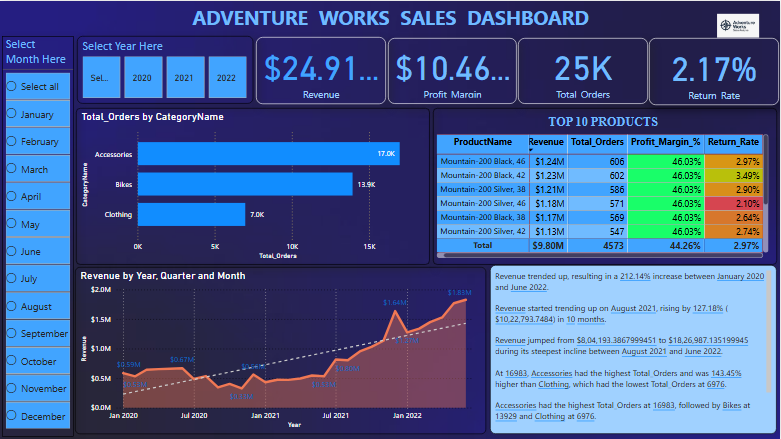

What the dashboard file says about the page in this screenshot:
{"tool":"powerbi","page":{"name":"Dashboard","canvas":[1280,720],"ordinal":5},"visuals":[{"type":"textbox","box":[0,0,1280,55.7],"z":0},{"type":"listSlicer","title":"Select Month Here","fields":{"Values":["Calendar Lookup.Date.Variation.Date Hierarchy.Month"]},"box":[3.3,57.4,118,657.4],"z":1000},{"type":"advancedSlicerVisual","title":"Select Year Here","fields":{"Values":["Calendar Lookup.Date.Variation.Date Hierarchy.Year"]},"box":[126.2,57.4,288.5,111.5],"z":2000},{"type":"card","fields":{"Values":["Measure Table.Revenue"]},"box":[419.7,59,213.1,109.8],"z":3000},{"type":"card","fields":{"Values":["Measure Table.Profit_Margin"]},"box":[636.1,60.7,211.5,108.2],"z":4000},{"type":"card","fields":{"Values":["Measure Table.Total_Orders"]},"box":[849.2,60.7,213.1,108.2],"z":5000},{"type":"card","fields":{"Values":["Measure Table.Return_Rate"]},"box":[1063.9,60.7,213.1,109.8],"z":6000},{"type":"clusteredBarChart","fields":{"Category":["Product Categories Lookup.CategoryName"],"Y":["Measure Table.Total_Orders"]},"box":[124.6,175.4,580.3,257.4],"z":7000},{"type":"lineChart","fields":{"Category":["Calendar Lookup.Date.Variation.Date Hierarchy.Year","Calendar Lookup.Date.Variation.Date Hierarchy.Quarter","Calendar Lookup.Date.Variation.Date Hierarchy.Month","Calendar Lookup.Date.Variation.Date Hierarchy.Day"],"Y":["Measure Table.Revenue"]},"box":[123,436.1,673.8,273.8],"z":8000},{"type":"pivotTable","title":"TOP 10 PRODUCTS","fields":{"Rows":["Product Lookup.ProductName"],"Values":["Measure Table.Revenue","Measure Table.Total_Orders","Measure Table.Profit_Margin_%","Measure Table.Return_Rate"]},"box":[709.8,175.4,563.9,257.4],"z":9000},{"type":"textbox","box":[803.3,432.8,470.5,277],"z":10000}]}

Visuals, with their boxes in screenshot pixels (x1, y1, x2, y2), scaled from the page's 1280x720 canvas onto the 781x439 screenshot:
textbox: detection(0, 0, 780, 34)
"Select Month Here" listSlicer: detection(2, 35, 74, 436)
"Select Year Here" advancedSlicerVisual: detection(77, 35, 253, 103)
card - Measure Table.Revenue: detection(256, 36, 386, 103)
card - Measure Table.Profit_Margin: detection(388, 37, 517, 103)
card - Measure Table.Total_Orders: detection(518, 37, 648, 103)
card - Measure Table.Return_Rate: detection(649, 37, 779, 104)
clusteredBarChart - Product Categories Lookup.CategoryName x Measure Table.Total_Orders: detection(76, 107, 430, 264)
lineChart - Calendar Lookup.Date.Variation.Date Hierarchy.Year x Calendar Lookup.Date.Variation.Date Hierarchy.Quarter: detection(75, 266, 486, 433)
"TOP 10 PRODUCTS" pivotTable: detection(433, 107, 777, 264)
textbox: detection(490, 264, 777, 433)
